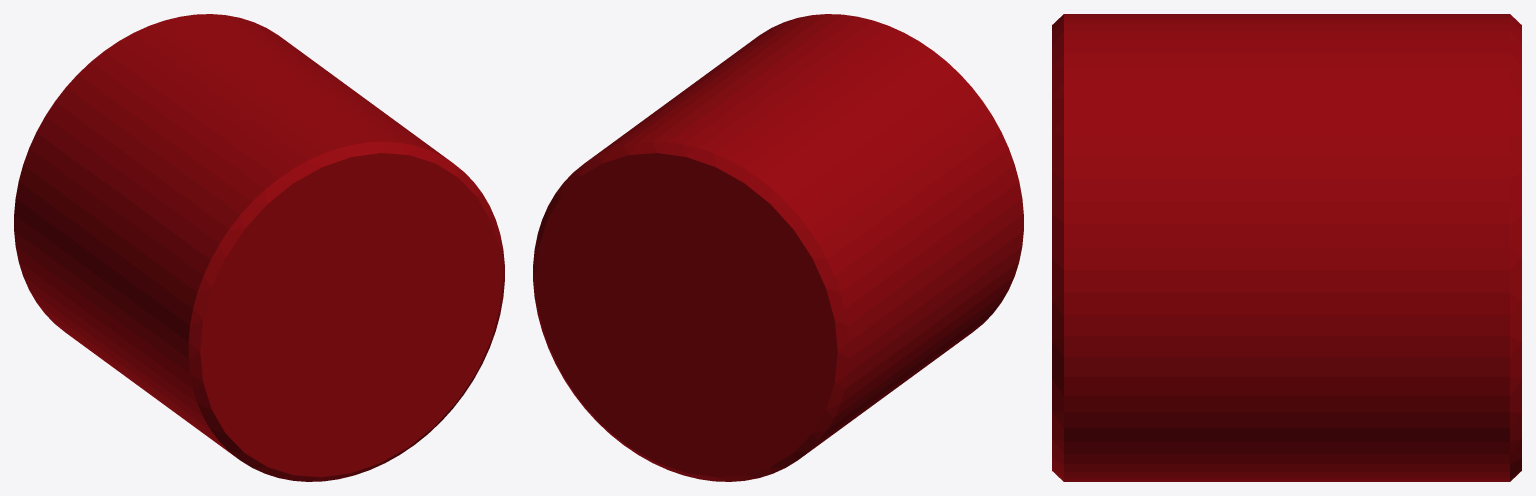
The picture shows the model from 3 angles, left to right: view 1: azimuth 30°, elevation 25°; view 2: azimuth 150°, elevation 25°; view 3: azimuth 270°, elevation 25°; orthographic projection. The views are drawn at different scales.
Visible parts, largest first — view 1: Cylinder; view 2: Cylinder; view 3: Cylinder.
Boxes of the visible parts, x1=… form: Cylinder: x1=14, y1=14, x2=504, y2=481; Cylinder: x1=533, y1=14, x2=1023, y2=481; Cylinder: x1=1052, y1=14, x2=1521, y2=481.
Size of the model in its own units: 1.99 by 1.99 by 2.
